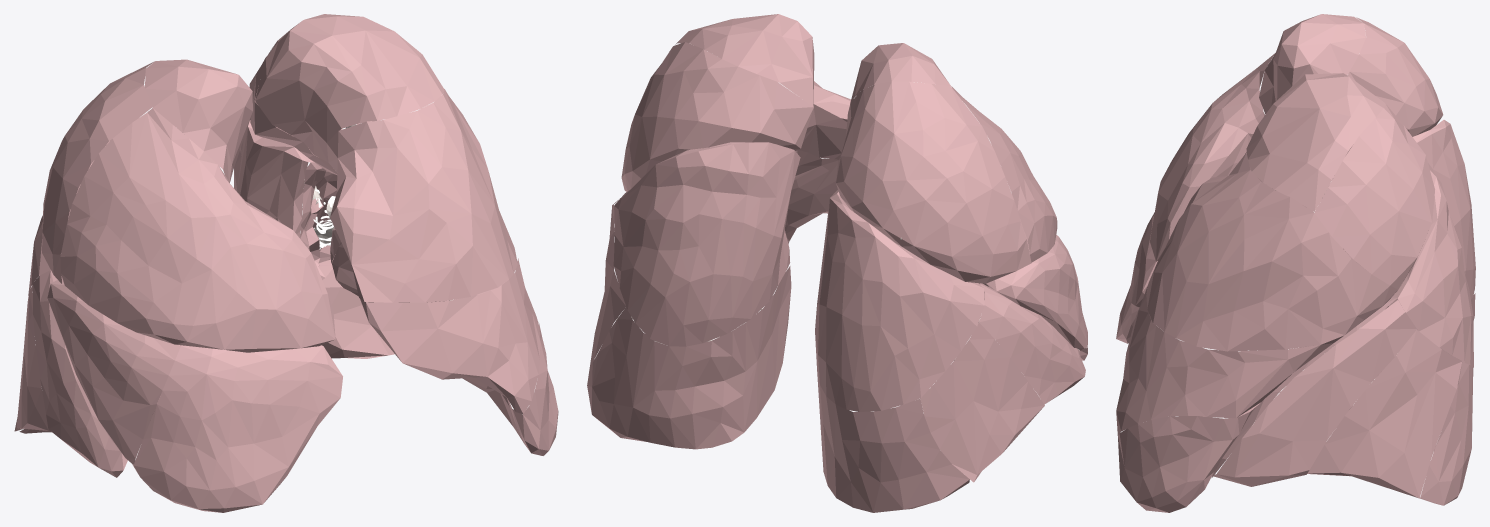
Rendered from 3d-vh-m-lung_0.2.glb.
3 views of the same model, side by side, from view 1: azimuth 30°, elevation 25°; view 2: azimuth 150°, elevation 25°; view 3: azimuth 270°, elevation 25° (orthographic). The views are drawn at different scales.
Visible parts, largest first — view 1: VH_M_right_anterior_bronchopulmonary_segment, VH_M_left_anterior_bronchopulmonary_segment, VH_M_right_medial_bronchopulmonary_segment, VH_M_left_apical_bronchopulmonary_segment, VH_M_left_lingula_superior_bronchopulmonary_segment, VH_M_right_lateral_bronchopulmonary_segment, VH_M_right_apical_bronchopulmonary_segment, VH_M_right_posterior_bronchopulmonary_segment, VH_M_right_anterior_basal_bronchopulmonary_segment, VH_M_left_superior_bronchopulmonary_segment, VH_M_left_lingula_inferior_bronchopulmonary_segment, VH_M_left_medial_basal_bronchopulmonary_segment (+4 smaller); view 2: VH_M_left_superior_bronchopulmonary_segment, VH_M_right_posterior_bronchopulmonary_segment, VH_M_right_superior_bronchopulmonary_segment, VH_M_left_posetrior_basal_bronchopulmonary_segment, VH_M_left_posterior_bronchopulmonary_segment, VH_M_right_posterior_basal_bronchopulmonary_segment, VH_M_right_lateral_basal_bronchopulmonary_segment, VH_M_left_apical_bronchopulmonary_segment, VH_M_right_anterior_basal_bronchopulmonary_segment, VH_M_right_lateral_bronchopulmonary_segment, VH_M_right_anterior_bronchopulmonary_segment, VH_M_right_apical_bronchopulmonary_segment (+3 smaller); view 3: VH_M_left_anterior_bronchopulmonary_segment, VH_M_left_lateral_basal_bronchopulmonary_segment, VH_M_left_posterior_bronchopulmonary_segment, VH_M_left_anterior_basal_bronchopulmonary_segment, VH_M_left_lingula_superior_bronchopulmonary_segment, VH_M_left_apical_bronchopulmonary_segment, VH_M_left_lingula_inferior_bronchopulmonary_segment, VH_M_right_anterior_bronchopulmonary_segment, VH_M_left_superior_bronchopulmonary_segment, VH_M_right_posterior_bronchopulmonary_segment, VH_M_right_apical_bronchopulmonary_segment, VH_M_left_posetrior_basal_bronchopulmonary_segment (+3 smaller).
Boxes of the visible parts, x1,y1,x2,y2 form: VH_M_right_anterior_bronchopulmonary_segment: (60,108,335,352); VH_M_left_anterior_bronchopulmonary_segment: (327,89,517,302); VH_M_right_medial_bronchopulmonary_segment: (132,345,342,512); VH_M_left_apical_bronchopulmonary_segment: (255,14,444,162); VH_M_left_lingula_superior_bronchopulmonary_segment: (360,258,540,414); VH_M_right_lateral_bronchopulmonary_segment: (47,277,180,464); VH_M_right_apical_bronchopulmonary_segment: (145,59,252,183); VH_M_right_posterior_bronchopulmonary_segment: (42,61,154,283); VH_M_right_anterior_basal_bronchopulmonary_segment: (32,270,127,477); VH_M_left_superior_bronchopulmonary_segment: (234,93,360,238); VH_M_left_lingula_inferior_bronchopulmonary_segment: (331,243,558,455); VH_M_left_medial_basal_bronchopulmonary_segment: (322,269,490,358); VH_M_left_superior_bronchopulmonary_segment: (613,142,800,346); VH_M_right_posterior_bronchopulmonary_segment: (836,81,1031,283); VH_M_right_superior_bronchopulmonary_segment: (815,190,984,411); VH_M_left_posetrior_basal_bronchopulmonary_segment: (587,266,791,449); VH_M_left_posterior_bronchopulmonary_segment: (625,42,813,188); VH_M_right_posterior_basal_bronchopulmonary_segment: (817,371,969,512); VH_M_right_lateral_basal_bronchopulmonary_segment: (920,323,1044,482); VH_M_left_apical_bronchopulmonary_segment: (675,14,814,106); VH_M_right_anterior_basal_bronchopulmonary_segment: (979,283,1085,404); VH_M_right_lateral_bronchopulmonary_segment: (979,219,1087,350); VH_M_right_anterior_bronchopulmonary_segment: (951,86,1057,262); VH_M_right_apical_bronchopulmonary_segment: (850,43,950,102); VH_M_left_anterior_bronchopulmonary_segment: (1146,152,1397,351); VH_M_left_lateral_basal_bronchopulmonary_segment: (1307,330,1462,498); VH_M_left_posterior_bronchopulmonary_segment: (1314,103,1434,289); VH_M_left_anterior_basal_bronchopulmonary_segment: (1213,300,1416,486); VH_M_left_lingula_superior_bronchopulmonary_segment: (1116,285,1396,435); VH_M_left_apical_bronchopulmonary_segment: (1246,73,1384,211); VH_M_left_lingula_inferior_bronchopulmonary_segment: (1118,410,1252,512); VH_M_right_anterior_bronchopulmonary_segment: (1150,53,1275,261); VH_M_left_superior_bronchopulmonary_segment: (1394,170,1473,367); VH_M_right_posterior_bronchopulmonary_segment: (1347,17,1443,149); VH_M_right_apical_bronchopulmonary_segment: (1259,14,1365,114); VH_M_left_posetrior_basal_bronchopulmonary_segment: (1349,361,1473,505).
Bounding box in the file's own units: 0.2596 × 0.2284 × 0.19.
